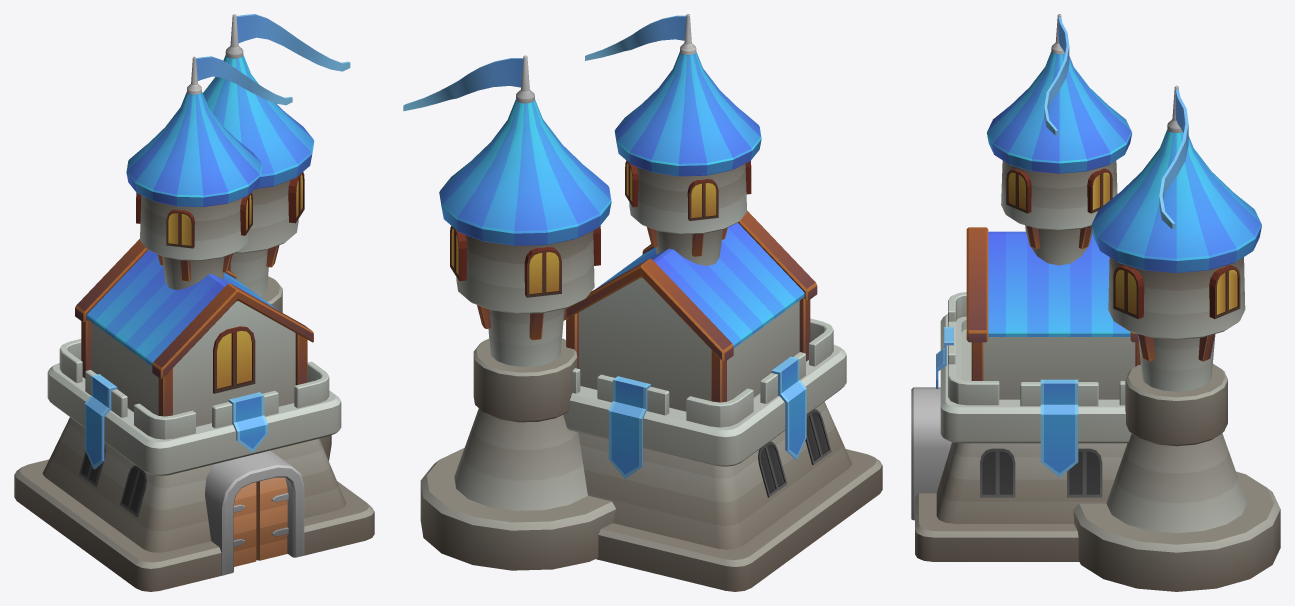
The model's file is house.glb.
3 views of the same model, side by side, from view 1: azimuth 30°, elevation 25°; view 2: azimuth 150°, elevation 25°; view 3: azimuth 270°, elevation 25° (orthographic). The views are drawn at different scales.
Visible parts, largest first — view 1: th; view 2: th; view 3: th.
Part boxes in pixels (x1=…): th: x1=14, y1=14, x2=374, y2=591; th: x1=403, y1=14, x2=882, y2=591; th: x1=911, y1=14, x2=1280, y2=591.
Bounding box in the file's own units: 1.57 × 2.11 × 1.45.
1 material, 1 textured.
